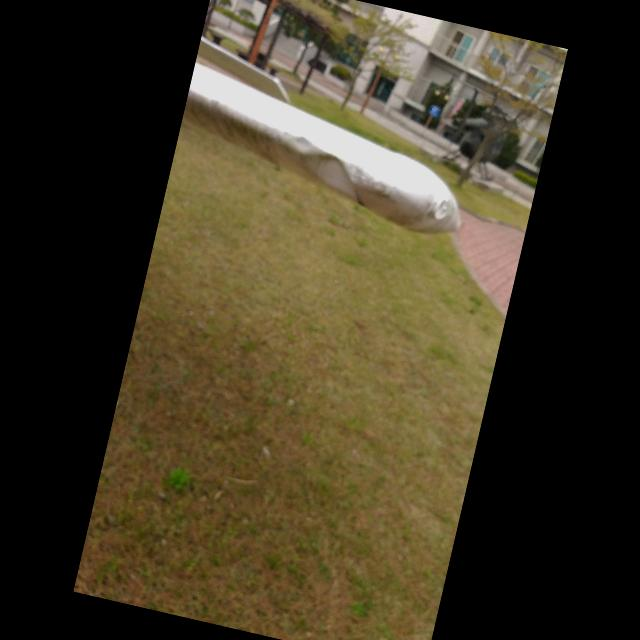dent: (290, 138, 378, 202), (285, 128, 316, 158)
